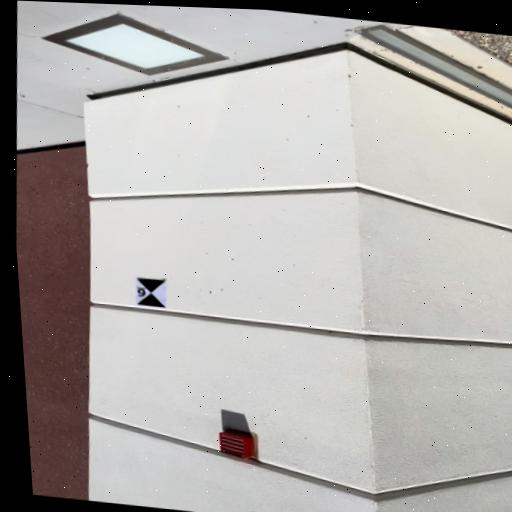target6: (134, 278, 166, 309)
